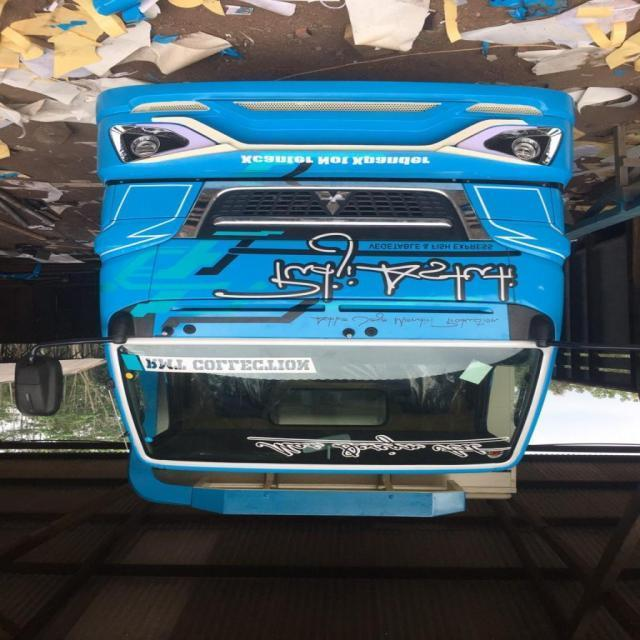truck: (21, 79, 576, 517)
